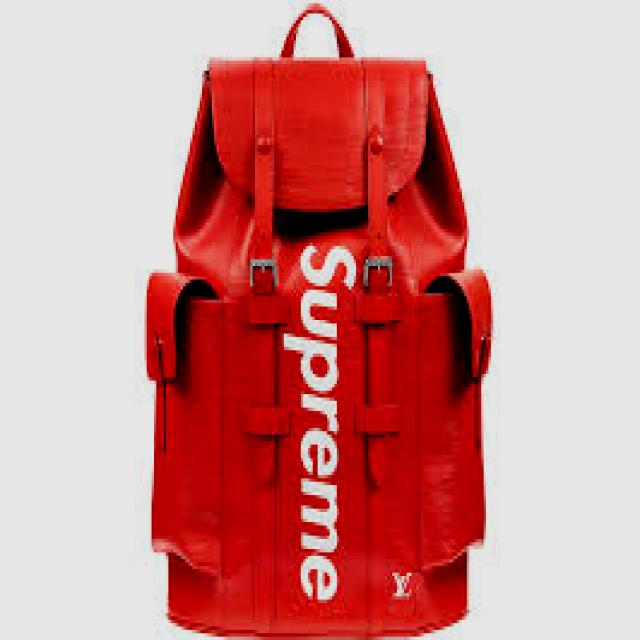backpack: (143, 2, 495, 638)
